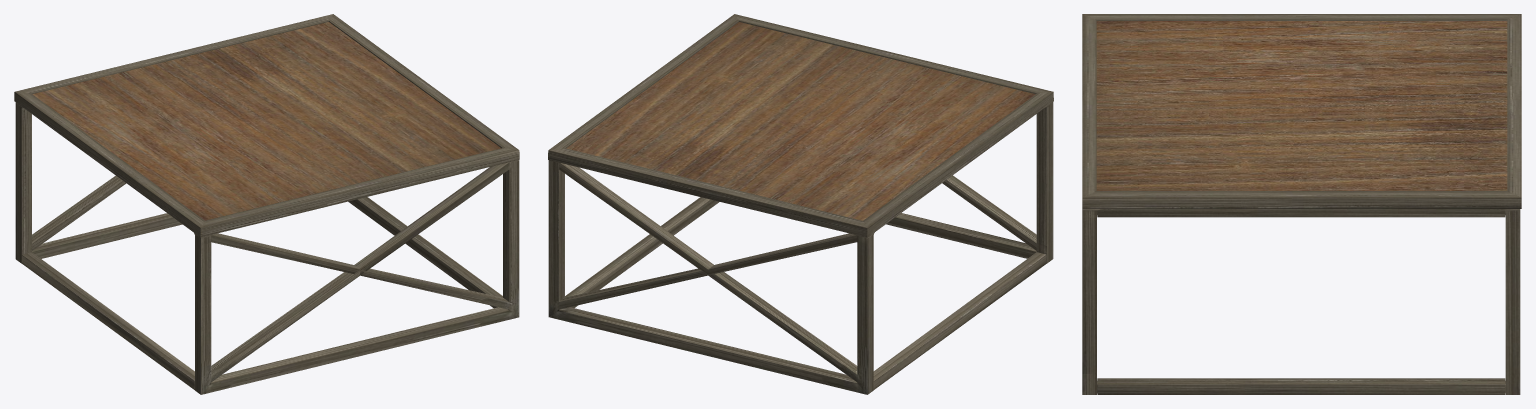
File: abo-b075z8m2bw.163d5f50f9.ar.glb
3 views of the same model, side by side, from view 1: azimuth 30°, elevation 25°; view 2: azimuth 150°, elevation 25°; view 3: azimuth 270°, elevation 25° (orthographic). The views are drawn at different scales.
Parts seen in each view (by area): view 1: RootNode; view 2: RootNode; view 3: RootNode.
Boxes of the visible parts, <box> form: RootNode: <box>14,14,519,394</box>; RootNode: <box>548,14,1053,394</box>; RootNode: <box>1082,14,1521,394</box>.
Bounding box in the file's own units: 0.8988 × 0.4512 × 0.9087.
Materials: 1 (1 with a texture image).
